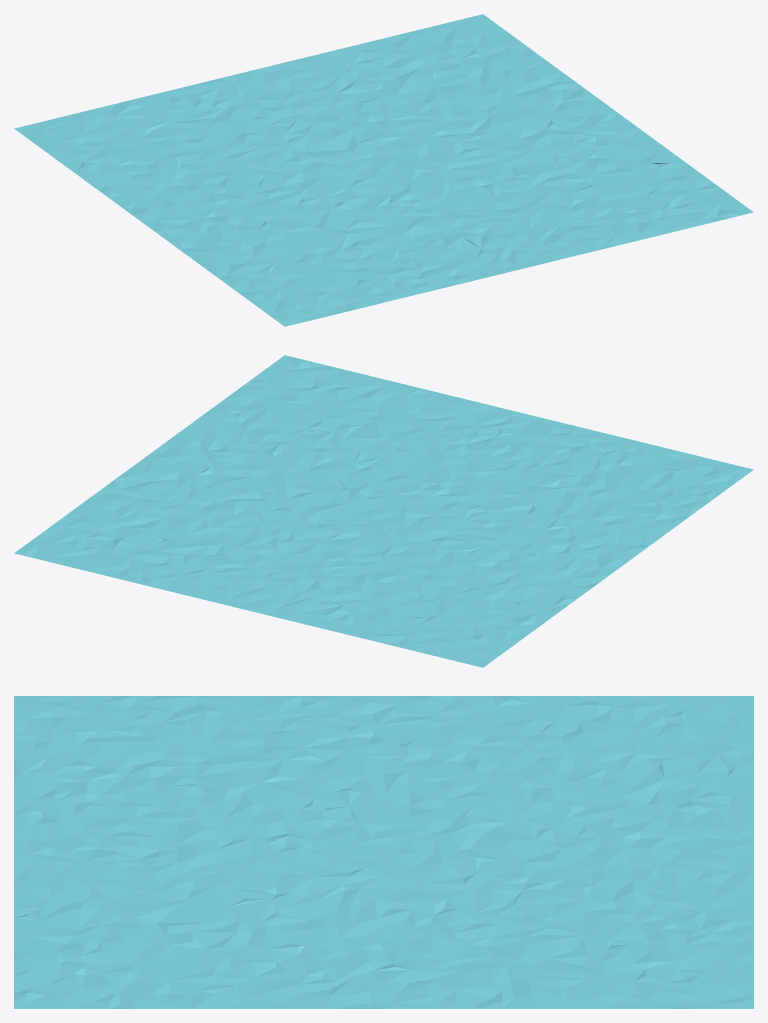
Rendered from Simple_Water.fbx.
3 renders of one model, top to bottom at view 1: azimuth 30°, elevation 25°; view 2: azimuth 150°, elevation 25°; view 3: azimuth 270°, elevation 25°, orthographic. The views are drawn at different scales.
Parts seen in each view (by area): view 1: Simple Water; view 2: Simple Water; view 3: Simple Water.
Part boxes in pixels (left/top/right/bottom): Simple Water: left=14, top=14, right=753, bottom=326; Simple Water: left=14, top=355, right=753, bottom=667; Simple Water: left=14, top=696, right=753, bottom=1008.
Bounding box in the file's own units: 10000 × 52.64 × 10000.
